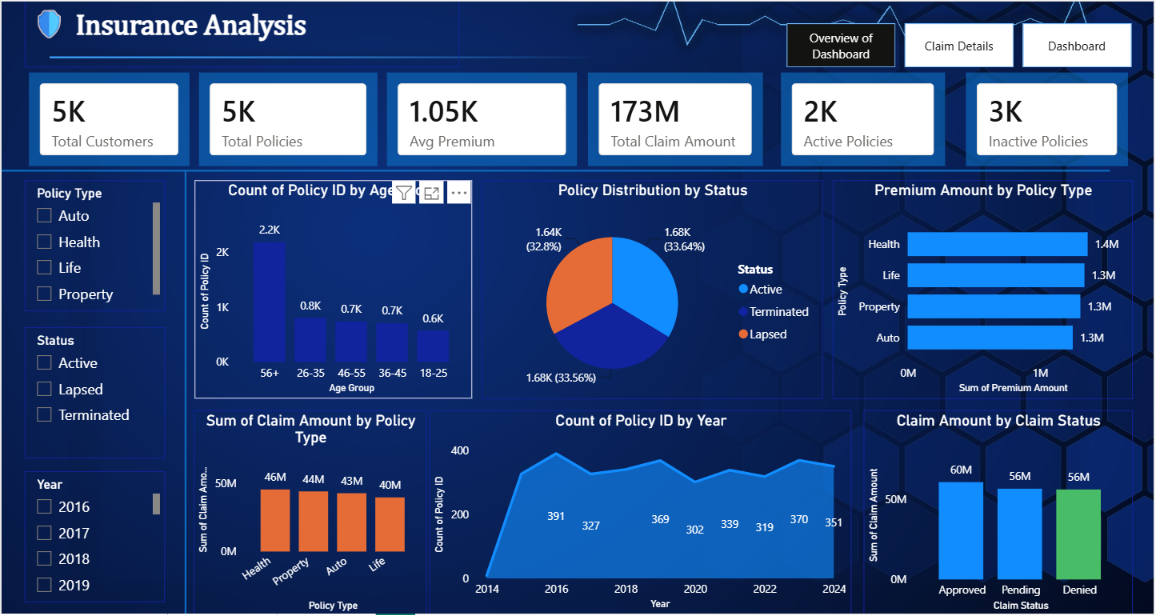

The page's visual inventory and layout, read from the dashboard file:
{"tool":"powerbi","page":{"name":"Overview of Dashboard","canvas":[1280,720],"ordinal":0},"visuals":[{"type":"cardVisual","fields":{"Data":["Claims.Total Customers"]},"box":[25.7,98.6,188.6,114.3],"z":0},{"type":"cardVisual","fields":{"Data":["Claims.Total Policies"]},"box":[214.3,98.6,208.6,114.3],"z":1000},{"type":"cardVisual","fields":{"Data":["Claims.Total avg premimum amt"]},"box":[422.9,98.6,221.4,114.3],"z":2000},{"type":"cardVisual","fields":{"Data":["Claims.Total Claim Amount"]},"box":[647.1,98.6,204.3,114.3],"z":3000},{"type":"cardVisual","fields":{"Data":["Claims.Active Policies"]},"box":[861.4,98.6,192.9,114.3],"z":4000},{"type":"cardVisual","fields":{"Data":["Claims.Inactive Policies"]},"box":[1067.1,98.6,190,114.3],"z":5000},{"type":"pieChart","title":"Policy Distribution by Status","fields":{"Category":["Policy_details.Status"],"Y":["Count(Policy_details.Policy ID)"]},"box":[533.7,223.3,379.1,243],"z":6000},{"type":"clusteredBarChart","title":"Premium Amount by Policy Type","fields":{"Category":["Policy_details.Policy Type"],"Y":["Sum(Policy_details.Premium Amount)"]},"box":[923.3,223.3,333.7,243],"z":7000},{"type":"clusteredColumnChart","title":"Claim Amount by Claim Status","fields":{"Category":["Claims.Claim Status"],"Y":["Sum(Claims.Claim Amount)"]},"box":[958.1,479.1,298.8,229.1],"z":8000},{"type":"stackedAreaChart","fields":{"Category":["Policy_details.Policy Start Date.Variation.Date Hierarchy.Year"],"Y":["CountNonNull(Claims.Policy ID)"]},"box":[475.6,479.1,468.6,227.9],"z":9000},{"type":"clusteredColumnChart","fields":{"Category":["Customer_info.Age Group"],"Y":["CountNonNull(Policy_details.Policy ID)"]},"box":[214,223.3,308.1,243],"z":10000},{"type":"clusteredColumnChart","fields":{"Category":["Policy_details.Policy Type"],"Y":["Sum(Claims.Claim Amount)"]},"box":[212.8,479.1,259.3,229.1],"z":11000},{"type":"shape","box":[0,187.4,1231.4,50],"z":12000},{"type":"shape","box":[181.4,212.8,46.5,495.4],"z":13000},{"type":"slicer","fields":{"Values":["Policy_details.Policy Type"]},"box":[25.6,223.3,155.8,145.3],"z":14000},{"type":"slicer","fields":{"Values":["Policy_details.Status"]},"box":[25.6,387.2,155.8,145.3],"z":15000},{"type":"slicer","fields":{"Values":["Policy_details.Policy End Date.Variation.Date Hierarchy.Year"]},"box":[25.6,546.5,155.8,145.3],"z":16000},{"type":"textbox","box":[26,21.5,483.3,76.8],"z":17000},{"type":"pageNavigator","box":[871.7,33.9,385,49.7],"z":18000}]}

Visuals, with their boxes on the page's 1280x720 design canvas (x1, y1, x2, y2). These are canvas units, not pixel positions in the 1155x615 screenshot, which may show the page scaled, cropped or inside an application window:
cardVisual - Claims.Total Customers: <region>26, 99, 214, 213</region>
cardVisual - Claims.Total Policies: <region>214, 99, 423, 213</region>
cardVisual - Claims.Total avg premimum amt: <region>423, 99, 644, 213</region>
cardVisual - Claims.Total Claim Amount: <region>647, 99, 851, 213</region>
cardVisual - Claims.Active Policies: <region>861, 99, 1054, 213</region>
cardVisual - Claims.Inactive Policies: <region>1067, 99, 1257, 213</region>
"Policy Distribution by Status" pieChart: <region>534, 223, 913, 466</region>
"Premium Amount by Policy Type" clusteredBarChart: <region>923, 223, 1257, 466</region>
"Claim Amount by Claim Status" clusteredColumnChart: <region>958, 479, 1257, 708</region>
stackedAreaChart - Policy_details.Policy Start Date.Variation.Date Hierarchy.Year x CountNonNull(Claims.Policy ID): <region>476, 479, 944, 707</region>
clusteredColumnChart - Customer_info.Age Group x CountNonNull(Policy_details.Policy ID): <region>214, 223, 522, 466</region>
clusteredColumnChart - Policy_details.Policy Type x Sum(Claims.Claim Amount): <region>213, 479, 472, 708</region>
shape: <region>0, 187, 1231, 237</region>
shape: <region>181, 213, 228, 708</region>
slicer - Policy_details.Policy Type: <region>26, 223, 181, 369</region>
slicer - Policy_details.Status: <region>26, 387, 181, 532</region>
slicer - Policy_details.Policy End Date.Variation.Date Hierarchy.Year: <region>26, 546, 181, 692</region>
textbox: <region>26, 22, 509, 98</region>
pageNavigator: <region>872, 34, 1257, 84</region>
